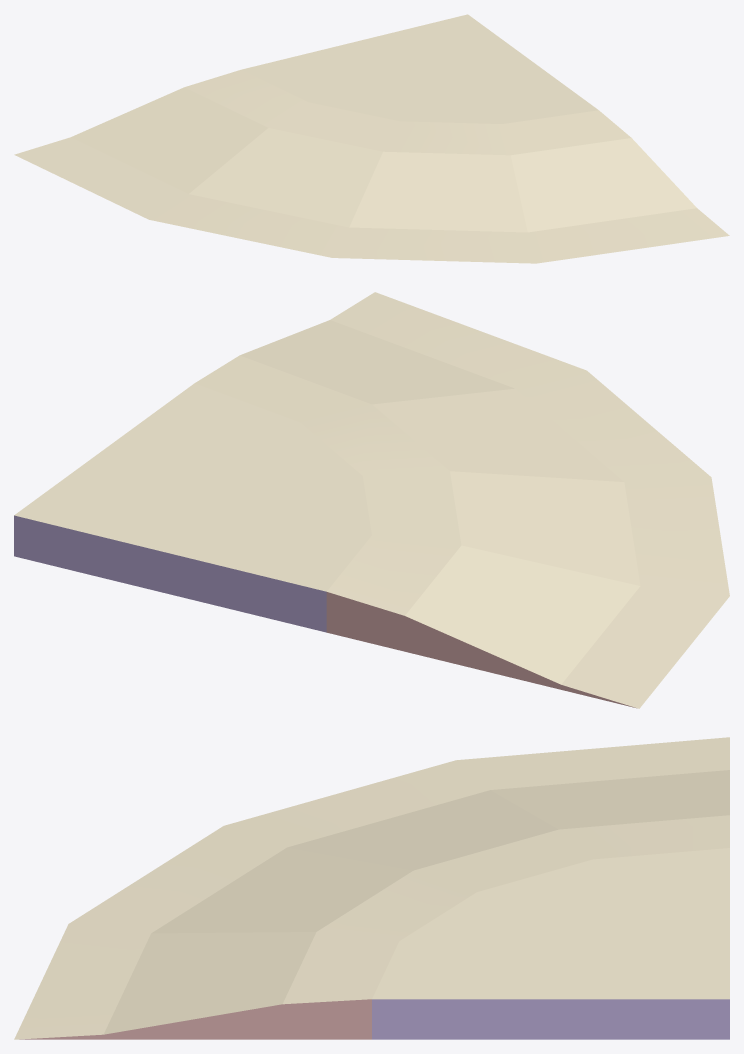
Rendered from Terrain_Sand_Incline_Curve_Outer_8x8.fbx.
The picture shows the model from 3 angles, top to bottom: view 1: azimuth 30°, elevation 25°; view 2: azimuth 150°, elevation 25°; view 3: azimuth 270°, elevation 25°; orthographic projection. The views are drawn at different scales.
Visible parts, largest first — view 1: Terrain_Sand_Incline_Curve_Outer_8x8; view 2: Terrain_Sand_Incline_Curve_Outer_8x8; view 3: Terrain_Sand_Incline_Curve_Outer_8x8.
Part boxes in pixels (x1,y1,x2,y2): Terrain_Sand_Incline_Curve_Outer_8x8: (14, 14, 729, 263); Terrain_Sand_Incline_Curve_Outer_8x8: (14, 292, 729, 708); Terrain_Sand_Incline_Curve_Outer_8x8: (14, 737, 729, 1039).
Size of the model in its own units: 800 by 50 by 800.
